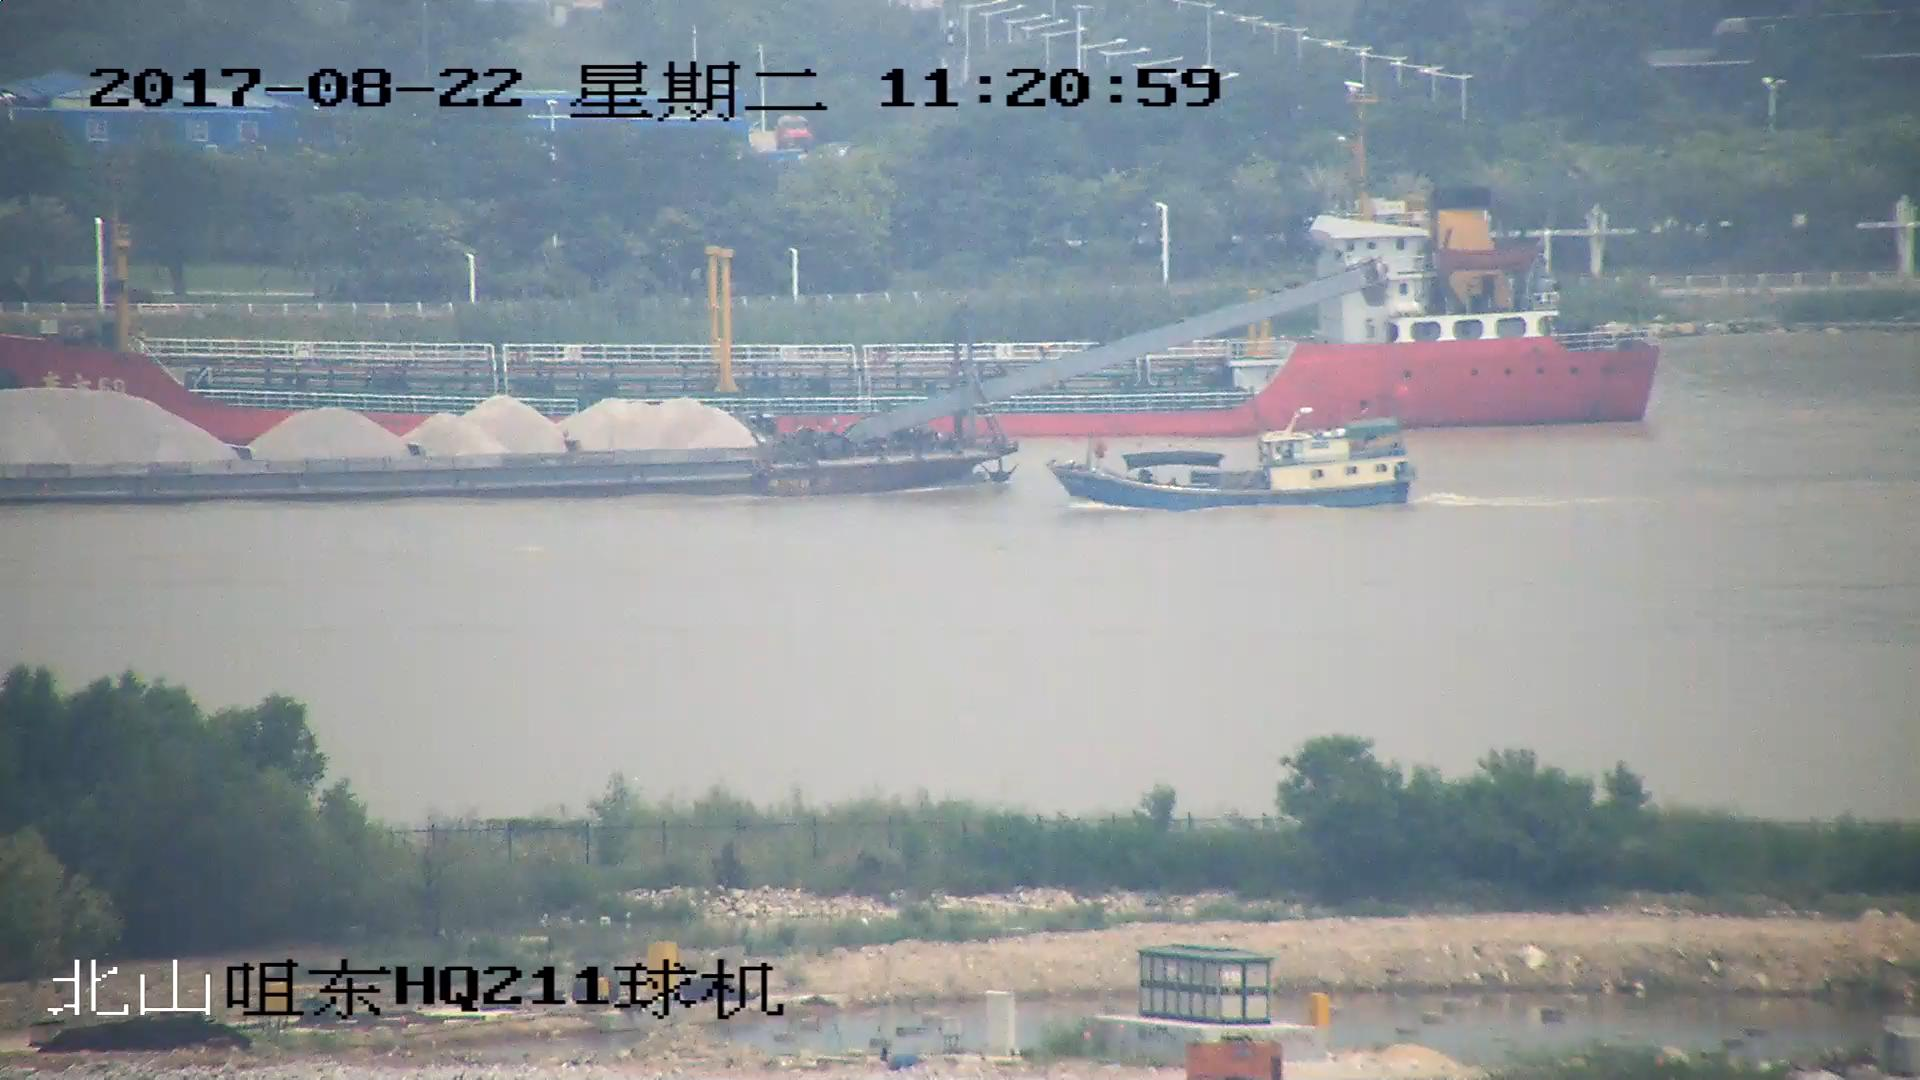fishing boat: (1048, 407, 1414, 510)
general cargo ship: (1, 120, 1670, 439)
ore carrier: (1, 263, 1376, 499)
